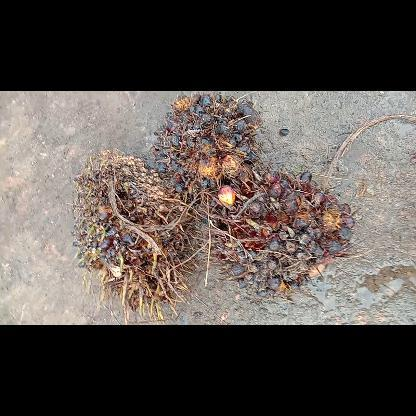TBS abnormal: (72, 150, 200, 324), (194, 172, 354, 296), (152, 91, 260, 204)
